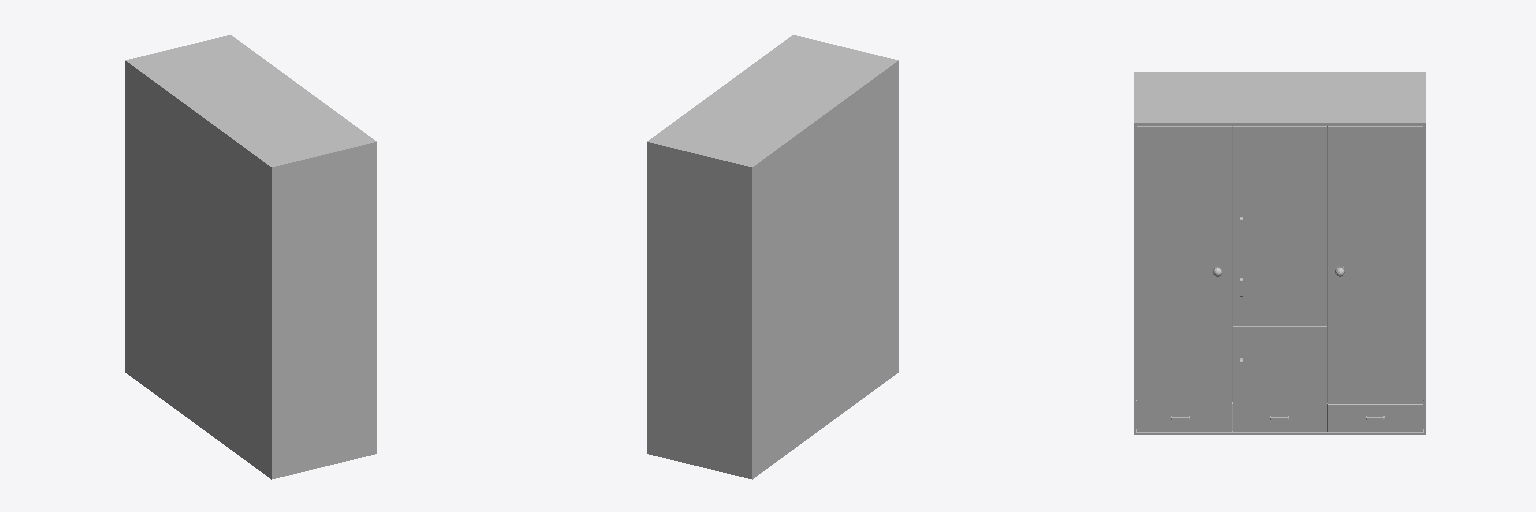
The model's file is closet_02.obj.
The picture shows the model from 3 angles: view 1: azimuth 30°, elevation 25°; view 2: azimuth 150°, elevation 25°; view 3: azimuth 270°, elevation 25°; orthographic projection.
Visible parts, largest first — view 1: Base_Cube; view 2: Base_Cube; view 3: Base_Cube, Mirror_Cube.002.
Boxes of the visible parts, <box> form: Base_Cube: <box>125,35,376,479</box>; Base_Cube: <box>647,35,898,479</box>; Base_Cube: <box>1134,72,1425,434</box>; Mirror_Cube.002: <box>1137,127,1422,402</box>.
Size of the model in its own units: 0.6942 by 1.8 by 1.53.